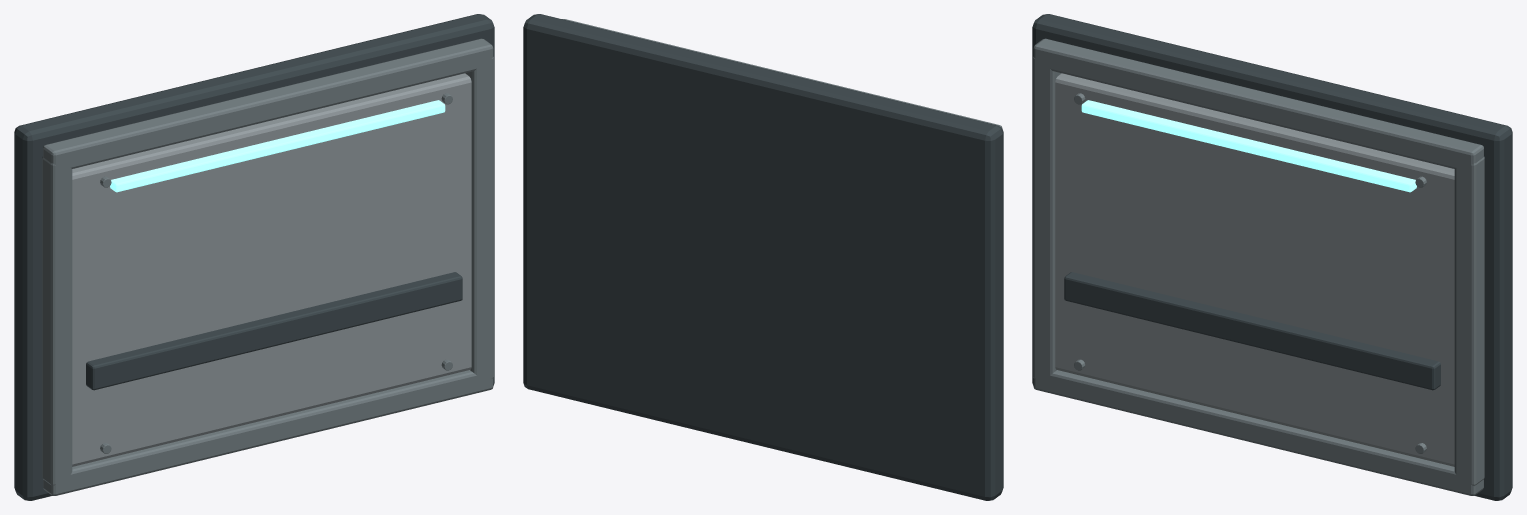
The model's file is WallPanel_A.fbx.
3 views of the same model, side by side, from view 1: azimuth 30°, elevation 25°; view 2: azimuth 150°, elevation 25°; view 3: azimuth 330°, elevation 25° (orthographic).
Visible parts, largest first — view 1: Inset Panel, Wall Backing, Frame Top, Service Channel, Frame Bottom, Frame Left, Frame Right, Status Light; view 2: Wall Backing, Frame Top; view 3: Inset Panel, Wall Backing, Frame Top, Service Channel, Frame Bottom, Frame Right, Frame Left, Status Light.
Part boxes in pixels (x1,y1,x2,y2): Inset Panel: (72, 73, 471, 466); Wall Backing: (14, 14, 494, 500); Frame Top: (43, 38, 493, 171); Service Channel: (86, 272, 462, 390); Frame Bottom: (43, 370, 493, 495); Frame Left: (42, 156, 72, 485); Frame Right: (465, 57, 493, 381); Status Light: (110, 100, 445, 192); Wall Backing: (523, 14, 1003, 500); Frame Top: (562, 19, 1002, 127); Inset Panel: (1055, 73, 1454, 466); Wall Backing: (1032, 14, 1512, 500); Frame Top: (1033, 38, 1483, 171); Service Channel: (1064, 272, 1440, 390); Frame Bottom: (1033, 370, 1483, 495); Frame Right: (1454, 156, 1484, 485); Frame Left: (1033, 57, 1061, 381); Status Light: (1081, 100, 1416, 192).
Bounding box in the file's own units: 4 × 3 × 0.5.
